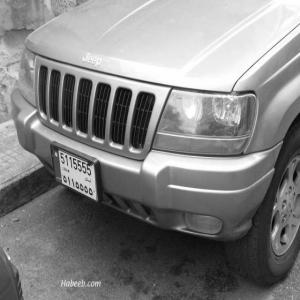Plate: (51, 142, 102, 202)
